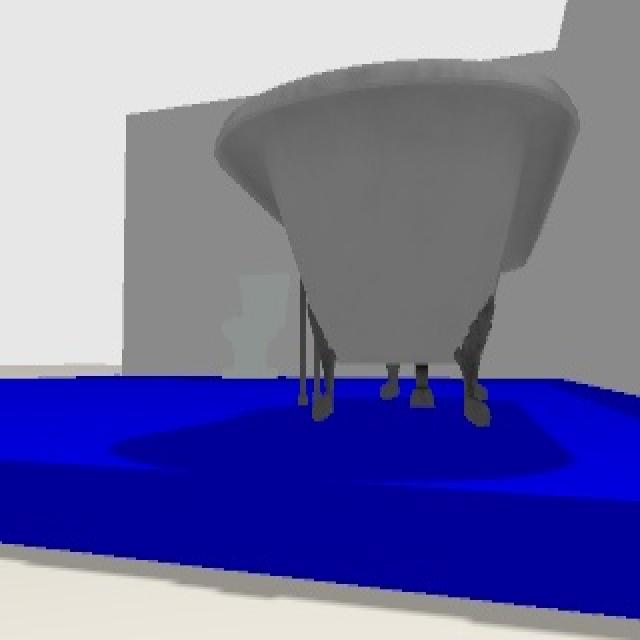bathtub: (212, 61, 582, 429)
